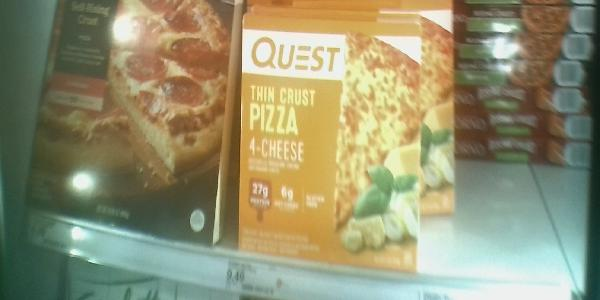pizza1: (23, 1, 231, 249), (241, 31, 416, 278)
pizza2: (455, 136, 596, 172), (452, 1, 597, 34), (457, 110, 594, 140), (455, 60, 587, 90), (450, 33, 594, 57), (455, 89, 589, 111)
